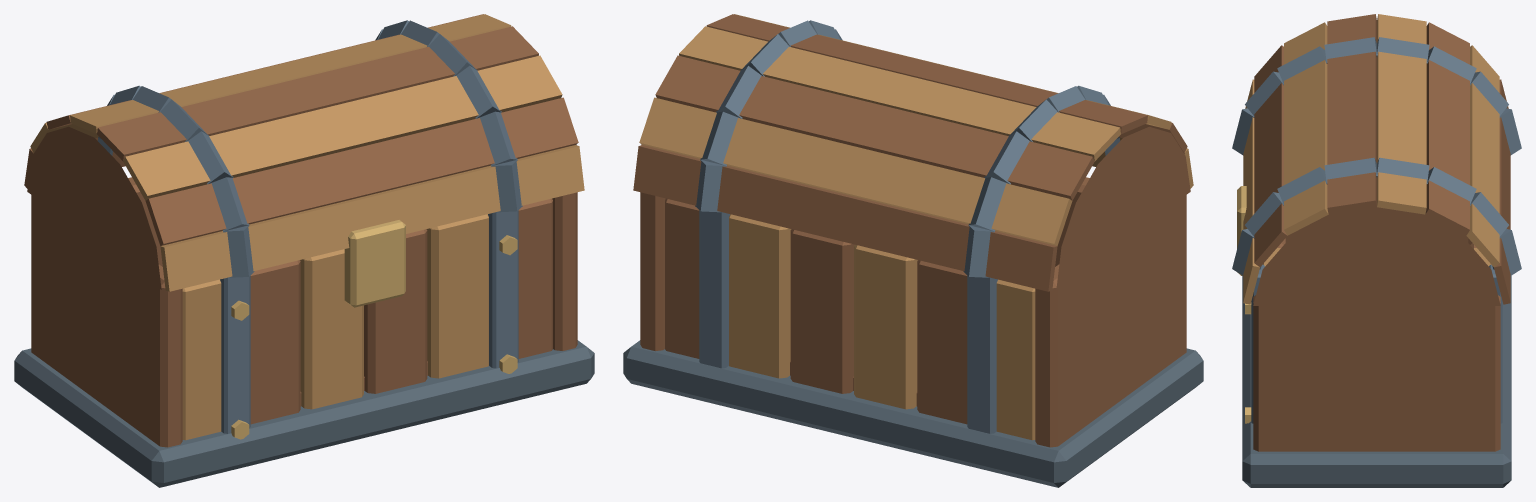
File: ironbound_treasure_chest.glb
3 renders of one model, left to right at view 1: azimuth 30°, elevation 25°; view 2: azimuth 150°, elevation 25°; view 3: azimuth 270°, elevation 25°, orthographic. The views are drawn at different scales.
Visible parts, largest first — view 1: ironbound_treasure_chest_Geometry, HingedLid; view 2: ironbound_treasure_chest_Geometry, HingedLid; view 3: HingedLid, ironbound_treasure_chest_Geometry.
Boxes of the visible parts, x1,y1,x2,y2 form: ironbound_treasure_chest_Geometry: (14, 177, 594, 487); HingedLid: (24, 14, 584, 307); ironbound_treasure_chest_Geometry: (623, 177, 1203, 487); HingedLid: (633, 14, 1193, 291); HingedLid: (1232, 14, 1521, 305); ironbound_treasure_chest_Geometry: (1242, 207, 1511, 487).
Size of the model in its own units: 1.75 by 1.21 by 1.08.
